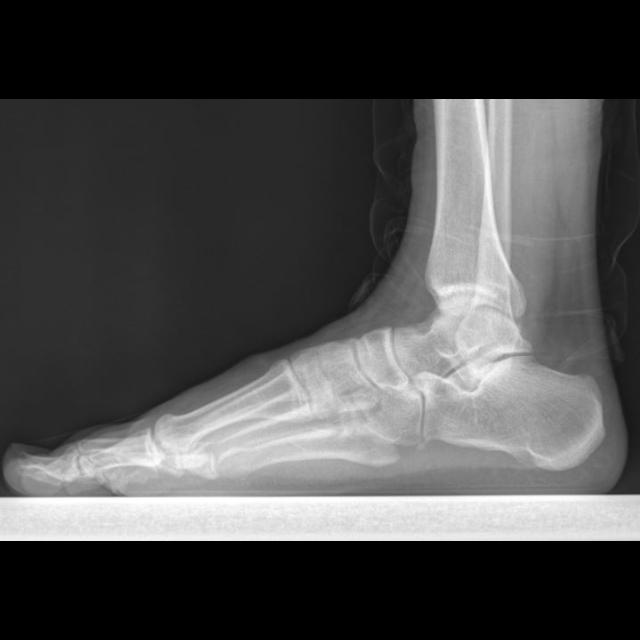a: (415, 354, 609, 469)
b: (357, 326, 408, 391)
c: (157, 355, 307, 454)
